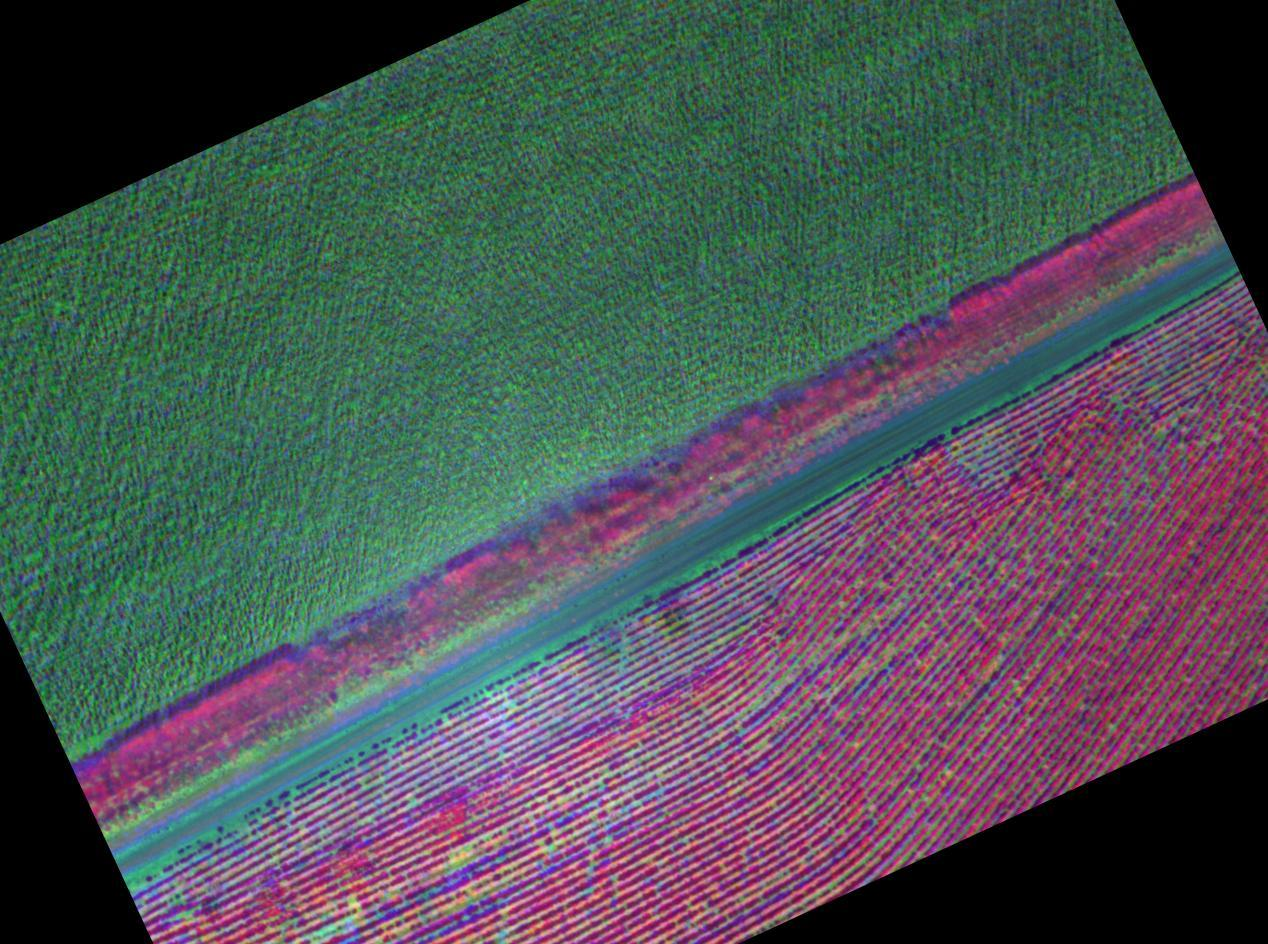dc: (630, 577, 732, 673), (436, 821, 584, 883), (293, 874, 394, 944)
